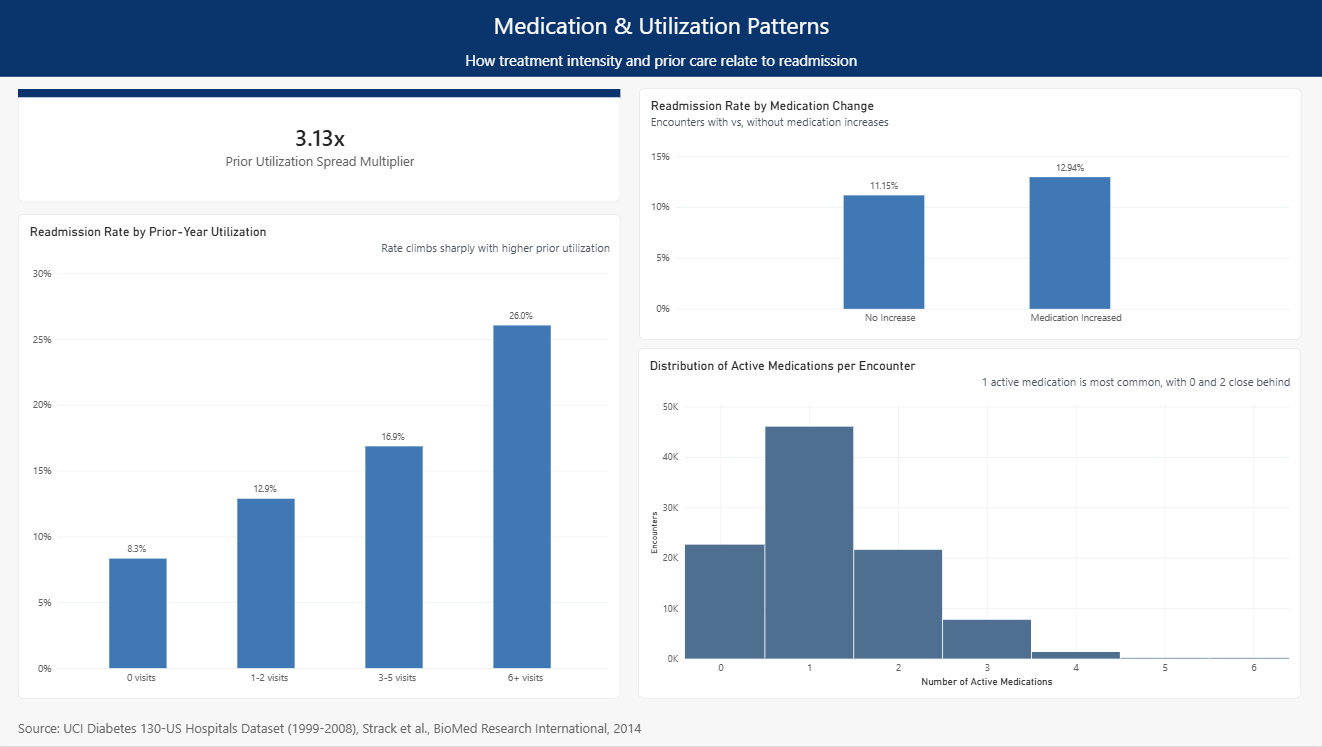

This screenshot's page, from the dashboard's own definition file:
{"tool":"powerbi","page":{"name":"Medication & Utilization","canvas":[1920,1080],"ordinal":3},"visuals":[{"type":"shape","box":[0,0,1920,69.2],"z":0},{"type":"shape","box":[0,62.1,1919.3,49.3],"z":1000},{"type":"textbox","box":[27,1041.7,1103.4,38.6],"z":2000},{"type":"clusteredColumnChart","title":"Readmission Rate by Medication Change","fields":{"Category":["hospital_readmission vw_encounter_full.medication_increased_label"],"Y":["hospital_readmission vw_encounter_full.Readmission Rate"]},"box":[927,127,960.3,365.1],"z":3000},{"type":"clusteredColumnChart","title":"Readmission Rate by Prior-Year Utilization","fields":{"Category":["hospital_readmission vw_encounter_risk_tier.prior_utilization_bucket"],"Y":["hospital_readmission vw_encounter_risk_tier.Prior Utilization Readmission Rate %"]},"box":[27,309.5,873,703.2],"z":4000},{"type":"clusteredColumnChart","title":"Distribution of Active Medications per Encounter","fields":{"Category":["hospital_readmission vw_encounter_full.num_active_medications (bins)"],"Y":["hospital_readmission vw_encounter_full.Total Encounters"]},"box":[926.2,504.9,960.7,508.2],"z":5000},{"type":"cardVisual","fields":{"Data":["hospital_readmission vw_encounter_full.Prior Utilization Spread Multiplier"]},"box":[27,128.6,873,163.5],"z":5004,"group":"g1"},{"type":"group","id":"g1","title":"Group 1","box":[27,128.6,873,163.5],"z":6000},{"type":"shape","box":[27.1,128.6,872.9,12],"z":11000,"group":"g1"}]}

Visuals, with their boxes in screenshot pixels (x1, y1, x2, y2), scaled from the page's 1920x1080 canvas onto the 1322x747 screenshot:
shape: rect(0, 0, 1321, 48)
shape: rect(0, 43, 1321, 77)
textbox: rect(19, 721, 778, 746)
"Readmission Rate by Medication Change" clusteredColumnChart: rect(638, 88, 1299, 340)
"Readmission Rate by Prior-Year Utilization" clusteredColumnChart: rect(19, 214, 620, 700)
"Distribution of Active Medications per Encounter" clusteredColumnChart: rect(638, 349, 1299, 701)
cardVisual - hospital_readmission vw_encounter_full.Prior Utilization Spread Multiplier: rect(19, 89, 620, 202)
"Group 1" group: rect(19, 89, 620, 202)
shape: rect(19, 89, 620, 97)
